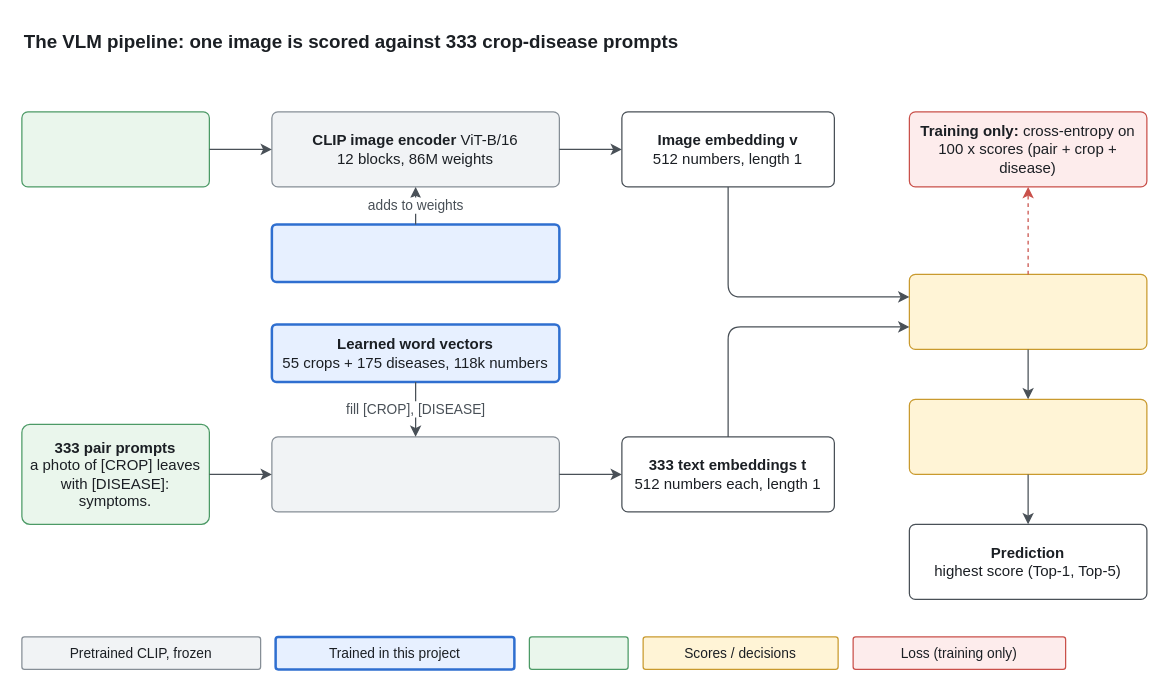
Image size: 1169x691. Some labels were removed from this diagram. Each missing label, with the centre of its shape:
Calibration seen-pair scores minus gamma: the point at 1027,436
CLIP text encoder 12 blocks: the point at 415,474
Cosine similarity v . t for every pair = 333 scores: the point at 1027,311
Data in: the point at 578,652
LoRA adapters in blocks 5-12 1.57M numbers: the point at 415,252
Plant photo 224 x 224 pixels: the point at 115,149
